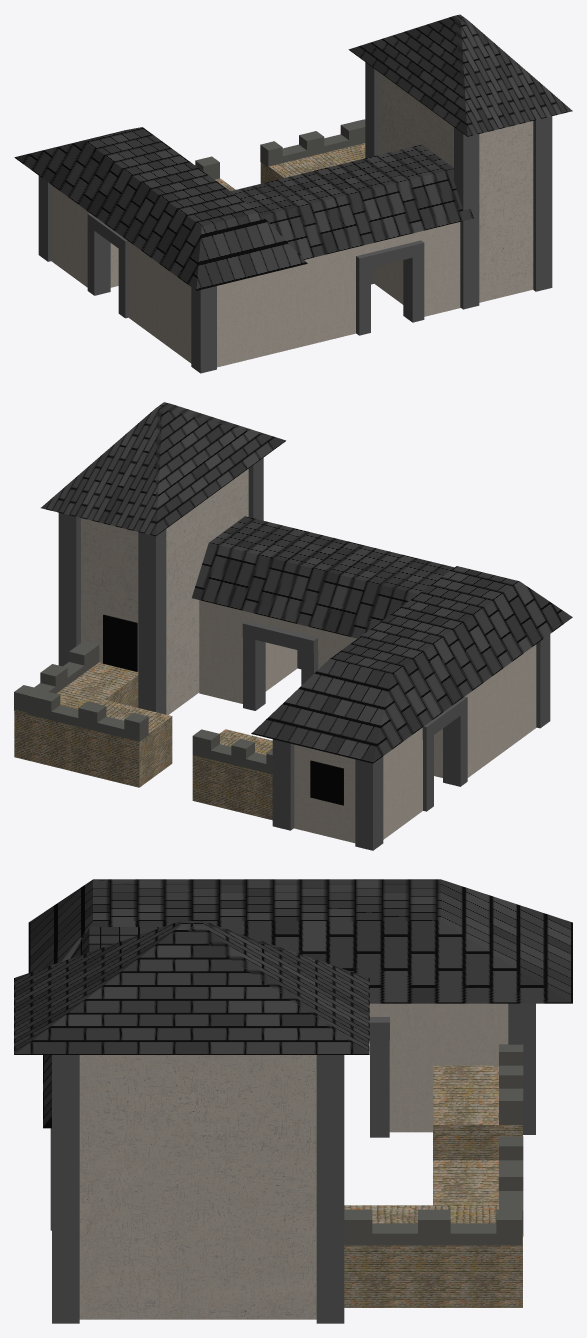
Rendered from ArtillaryShop.fbx.
3 views of the same model, one above another, from view 1: azimuth 30°, elevation 25°; view 2: azimuth 150°, elevation 25°; view 3: azimuth 270°, elevation 25° (orthographic). The views are drawn at different scales.
Visible parts, largest first — view 1: HouseBodyMain, Roof2, Roof1, Roof3, HouseBodyTall, Frame3, DoorFrame4, Frame4, DoorFrame3, Rampart2, Frame7, RampartBody2 (+2 smaller); view 2: Roof2, HouseBodyMain, Roof1, Roof3, RampartBody2, HouseBodyTall, Frame2, DoorFrame1, Fram1, DoorFrame3, Rampart2, Frame6 (+7 smaller); view 3: HouseBodyTall, Roof2, Roof3, RampartBody2, HouseBodyMain, Fram1, Frame4, Rampart1, DoorFrame2, Frame5, Rampart3, Rampart2 (+1 smaller).
Boxes of the visible parts, bbox=[...] form: HouseBodyMain: bbox=[51, 185, 460, 367]; Roof2: bbox=[14, 127, 307, 290]; Roof1: bbox=[230, 144, 473, 259]; Roof3: bbox=[348, 14, 572, 136]; HouseBodyTall: bbox=[378, 72, 533, 302]; Frame3: bbox=[454, 127, 479, 309]; DoorFrame4: bbox=[356, 240, 424, 335]; Frame4: bbox=[533, 116, 552, 291]; DoorFrame3: bbox=[87, 213, 128, 318]; Rampart2: bbox=[260, 119, 365, 167]; Frame7: bbox=[191, 286, 216, 373]; RampartBody2: bbox=[215, 143, 365, 190]; Roof2: bbox=[251, 566, 572, 763]; HouseBodyMain: bbox=[199, 600, 536, 843]; Roof1: bbox=[192, 516, 454, 638]; Roof3: bbox=[41, 402, 285, 536]; RampartBody2: bbox=[14, 662, 272, 820]; HouseBodyTall: bbox=[81, 469, 248, 714]; Frame2: bbox=[138, 529, 166, 714]; DoorFrame1: bbox=[242, 620, 318, 710]; Fram1: bbox=[58, 512, 80, 666]; DoorFrame3: bbox=[422, 696, 467, 811]; Rampart2: bbox=[27, 689, 148, 741]; Frame6: bbox=[355, 756, 383, 850]; HouseBodyTall: bbox=[79, 1055, 316, 1319]; Roof2: bbox=[28, 879, 572, 1003]; Roof3: bbox=[14, 921, 369, 1054]; RampartBody2: bbox=[344, 1065, 522, 1307]; HouseBodyMain: bbox=[369, 1003, 508, 1132]; Fram1: bbox=[316, 1055, 344, 1323]; Frame4: bbox=[52, 1055, 79, 1323]; Rampart1: bbox=[344, 1209, 522, 1245]; DoorFrame2: bbox=[369, 1017, 389, 1137]; Frame5: bbox=[508, 1003, 535, 1134]; Rampart3: bbox=[499, 1044, 523, 1126]; Rampart2: bbox=[499, 1136, 523, 1236].
Size of the model in its own units: 547 by 347 by 478.
